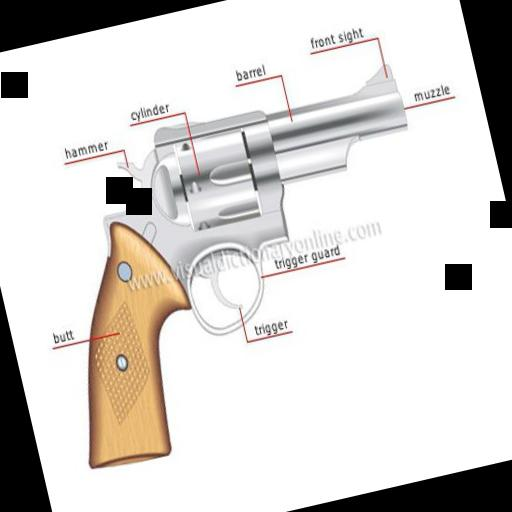Handgun: (14, 60, 468, 472)
